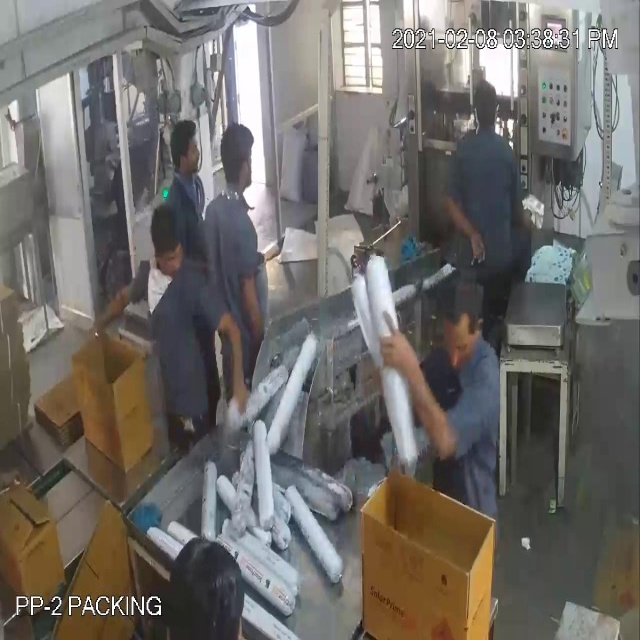Sin_guantes: (375, 313, 460, 470), (207, 295, 255, 415), (434, 179, 486, 276), (89, 265, 138, 348), (241, 252, 274, 348)
